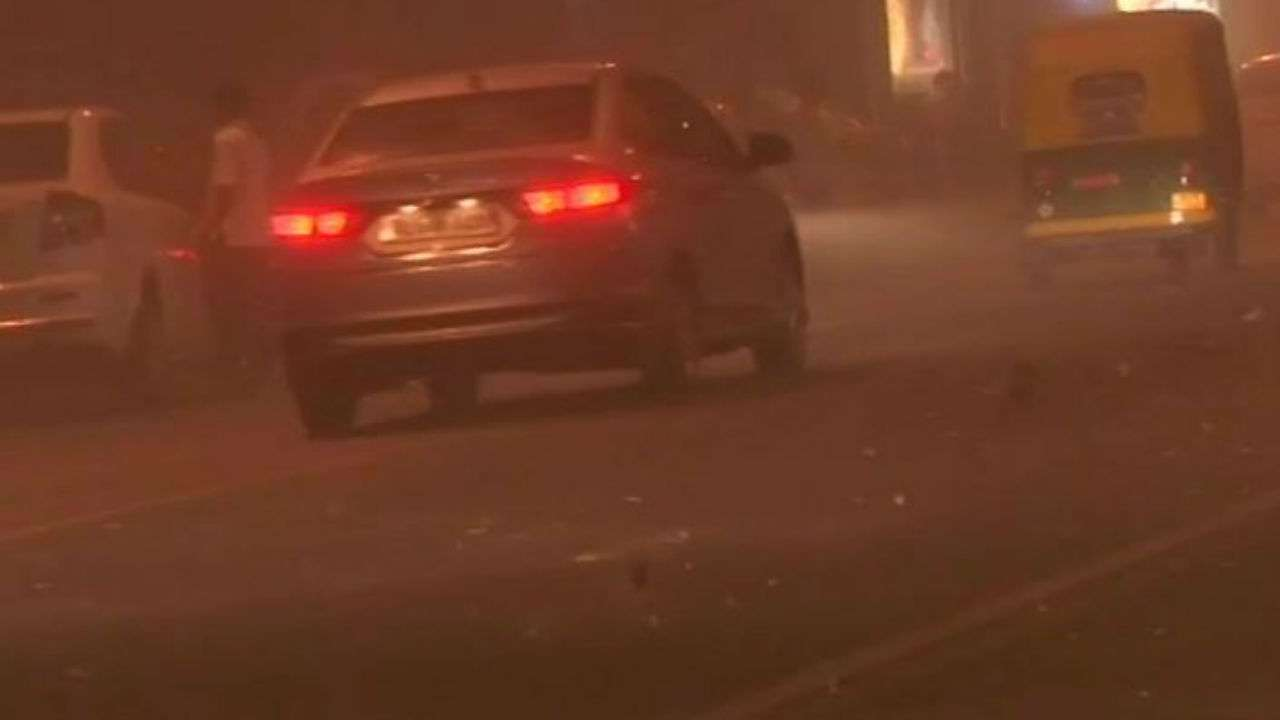car: (217, 62, 815, 430), (1013, 22, 1247, 294), (0, 100, 208, 389)
person: (198, 87, 272, 387)
